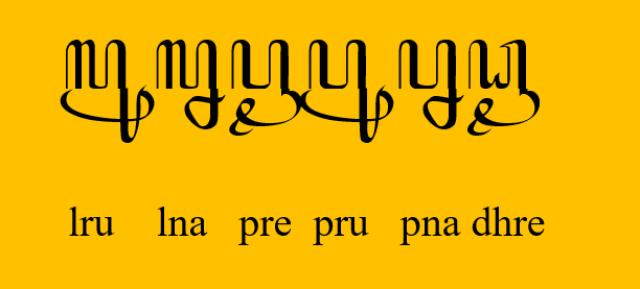dhre: (466, 40, 540, 136)
ln: (156, 38, 227, 130)
lru: (59, 38, 154, 144)
pn: (398, 40, 464, 130)
pre: (228, 39, 302, 137)
pru: (300, 39, 394, 143)
